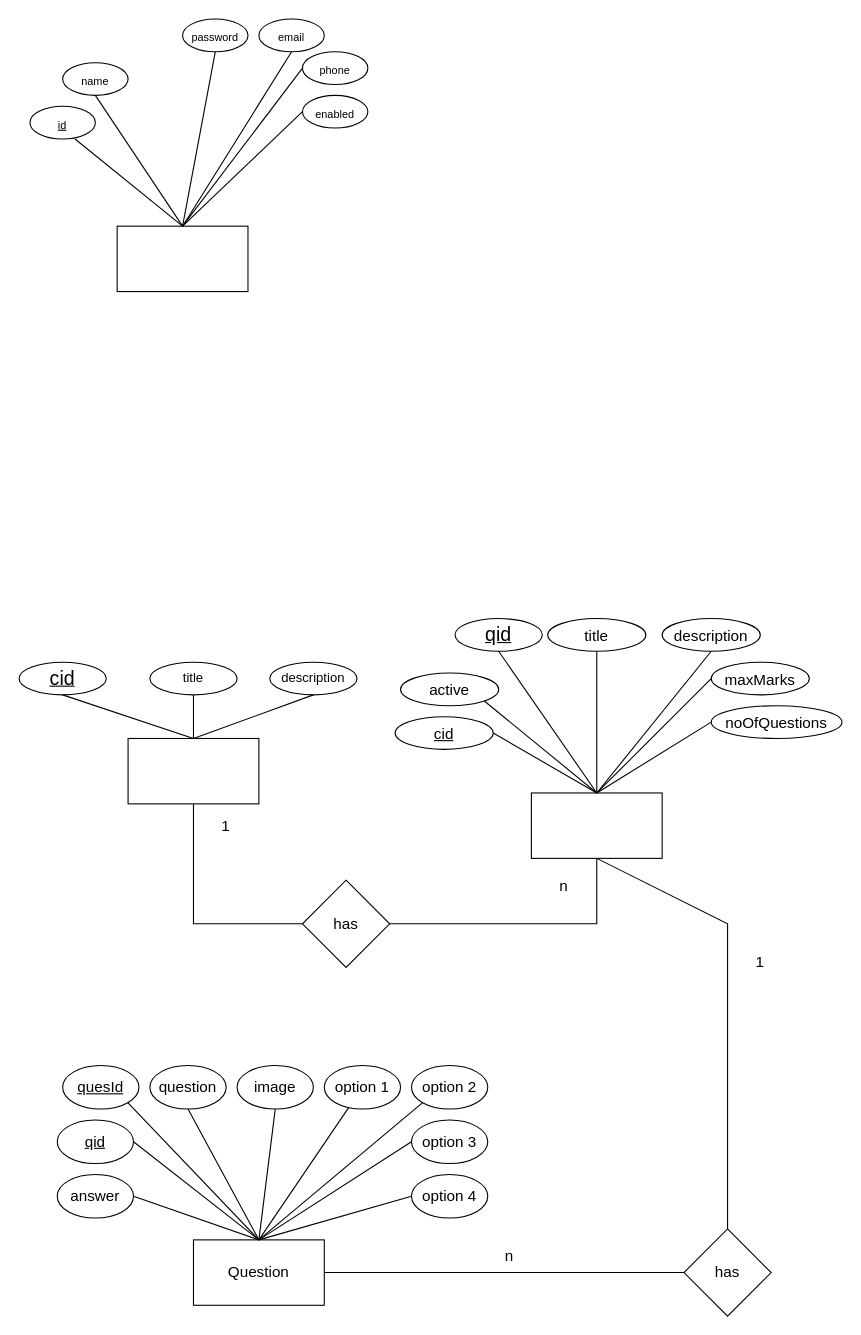
This 861x1335 diagram has some shape labels left out. Here are the shapes that lost their labels. From the top down, the centre of each, then its label:
At (182,258): "User".
At (193,770): "category".
At (596,825): "Quiz".
